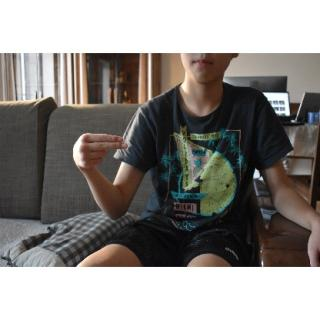AYN: (69, 131, 132, 172)
